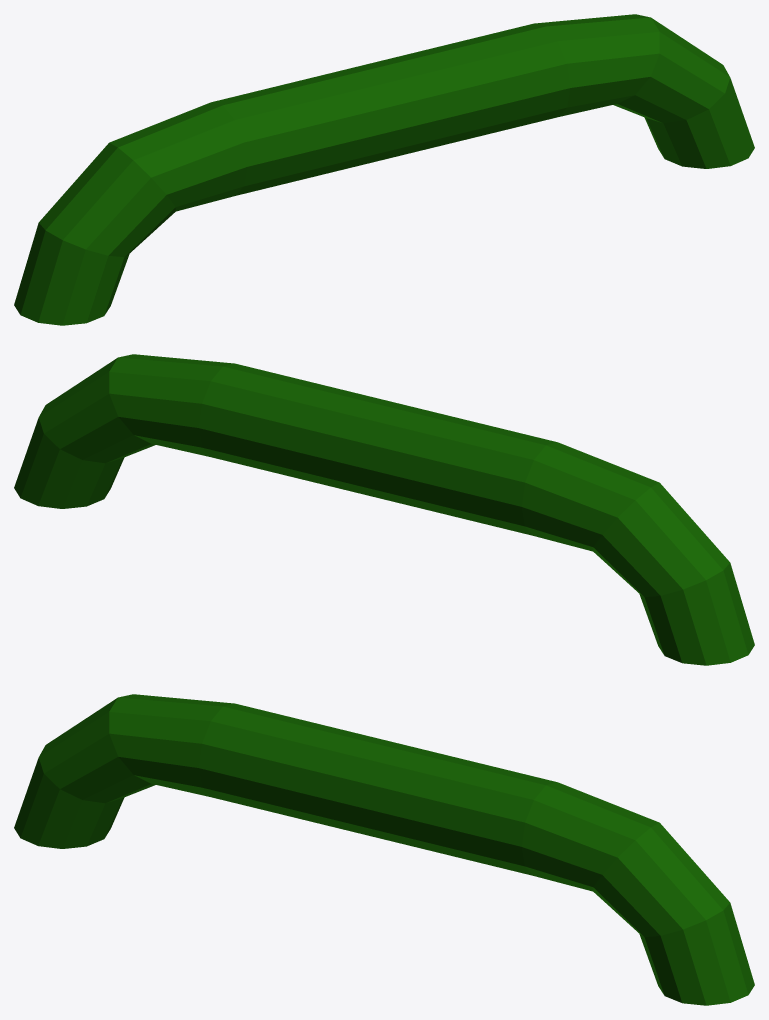
The model's file is GreenWire.fbx.
The picture shows the model from 3 angles, top to bottom: view 1: azimuth 30°, elevation 25°; view 2: azimuth 150°, elevation 25°; view 3: azimuth 330°, elevation 25°; orthographic projection.
Parts seen in each view (by area): view 1: Cylinder; view 2: Cylinder; view 3: Cylinder.
Part boxes in pixels (x1=…): Cylinder: x1=14, y1=14, x2=754, y2=325; Cylinder: x1=14, y1=354, x2=754, y2=665; Cylinder: x1=14, y1=694, x2=754, y2=1005.
Size of the model in its own units: 1737 by 368 by 200.
